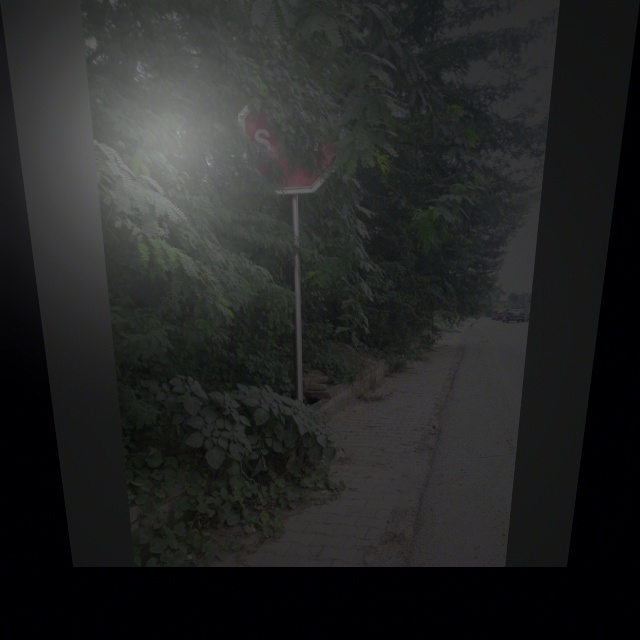Stop: (237, 90, 335, 194)
